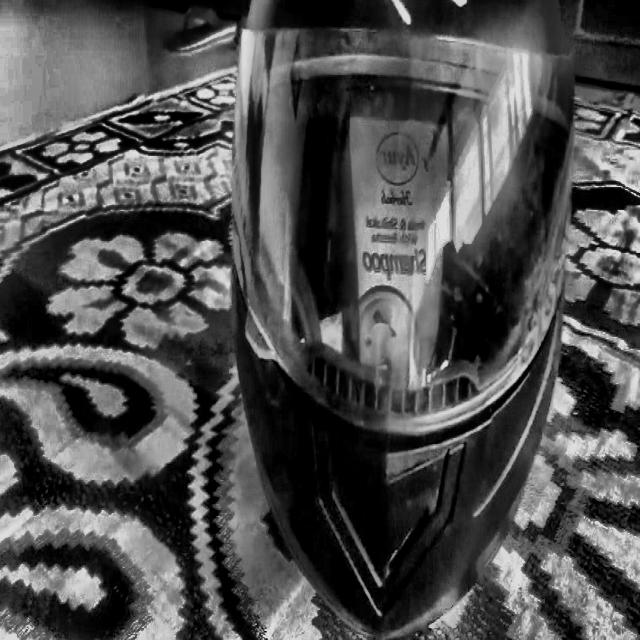Helmet: (227, 0, 582, 639)
